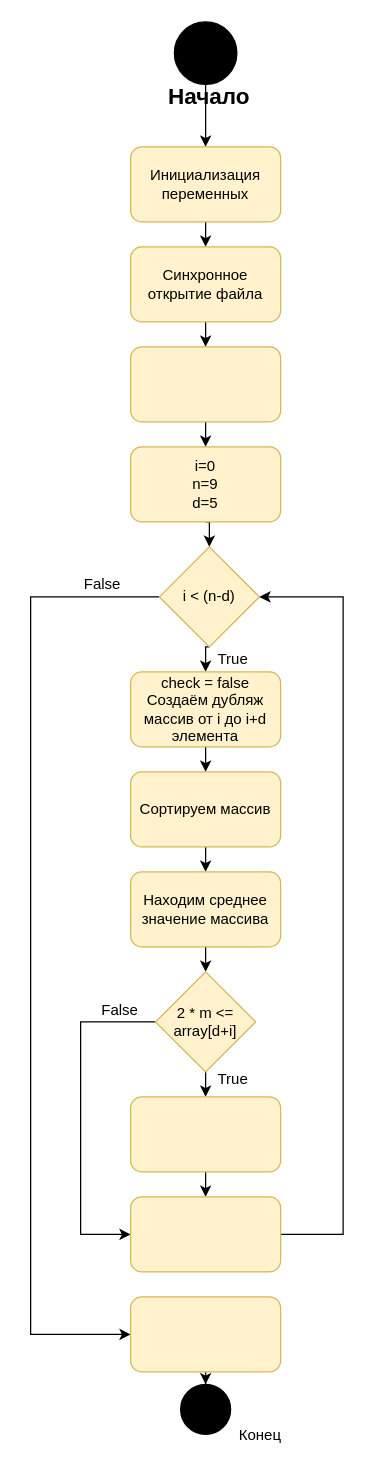
Image size: 375x1470. Some labels were removed from this diagram. Here are the shapes that lost their labels. From the top down, the box of each, then its label:
(129, 346, 281, 422): Считывание данных с файла
(129, 1096, 281, 1172): result++ check = true
(129, 1196, 281, 1272): i++
(129, 1296, 281, 1372): Вывод ответа
